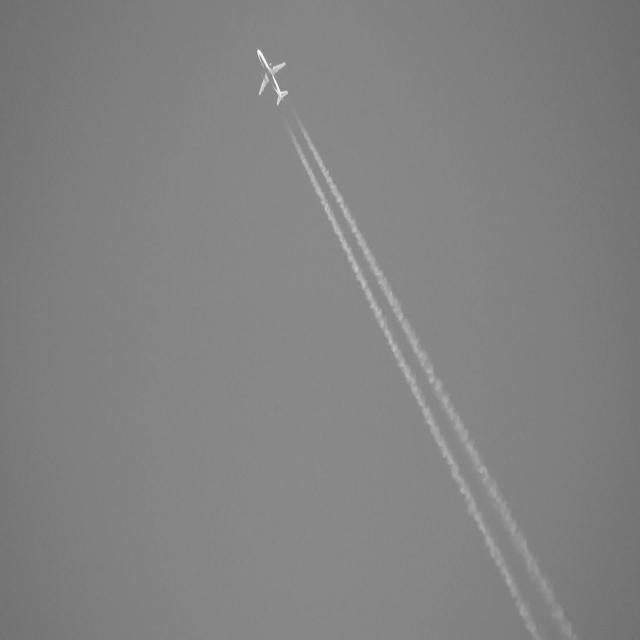aeroplane: (257, 40, 288, 111)
